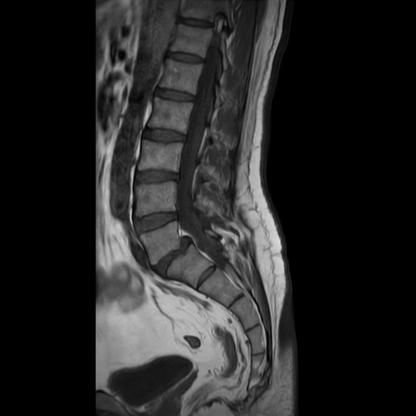Disc Bulgerotation: (164, 232, 190, 284), (133, 211, 180, 233), (136, 167, 180, 187)
